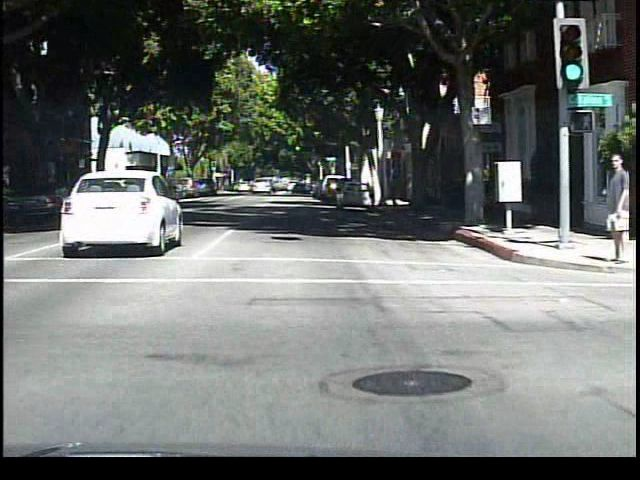person: (595, 148, 627, 267)
